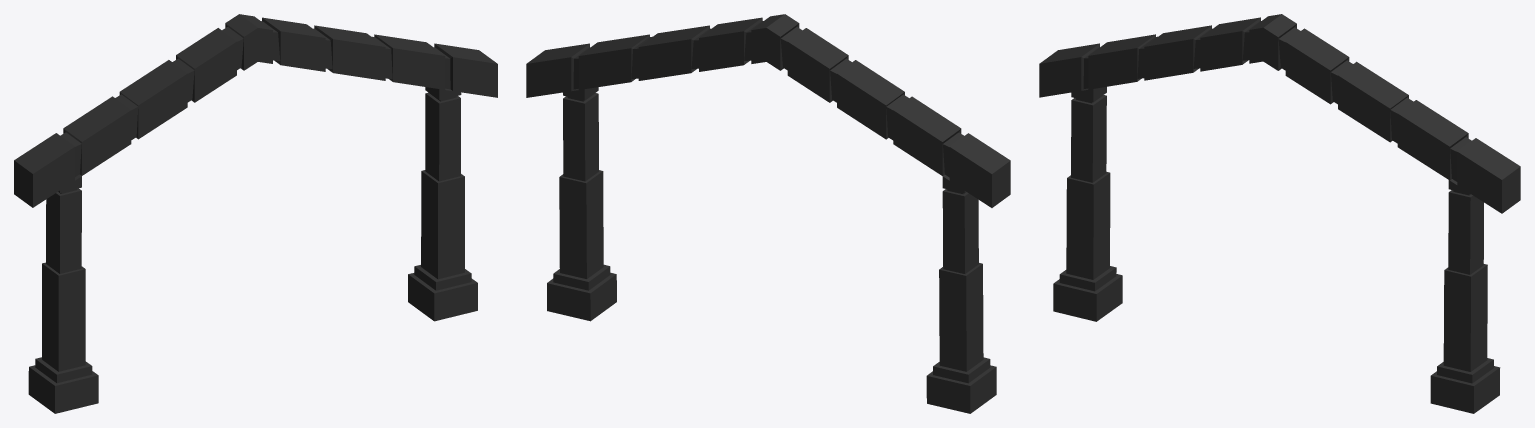
File: BridgePort1.fbx
3 views of the same model, side by side, from view 1: azimuth 30°, elevation 25°; view 2: azimuth 150°, elevation 25°; view 3: azimuth 330°, elevation 25° (orthographic).
Parts seen in each view (by area): view 1: Cube.002; view 2: Cube.002; view 3: Cube.002.
Part boxes in pixels (x1=…): Cube.002: x1=14, y1=14, x2=497, y2=413; Cube.002: x1=526, y1=14, x2=1010, y2=413; Cube.002: x1=1039, y1=14, x2=1520, y2=413.
Bounding box in the file's own units: 1117 × 764 × 110.
